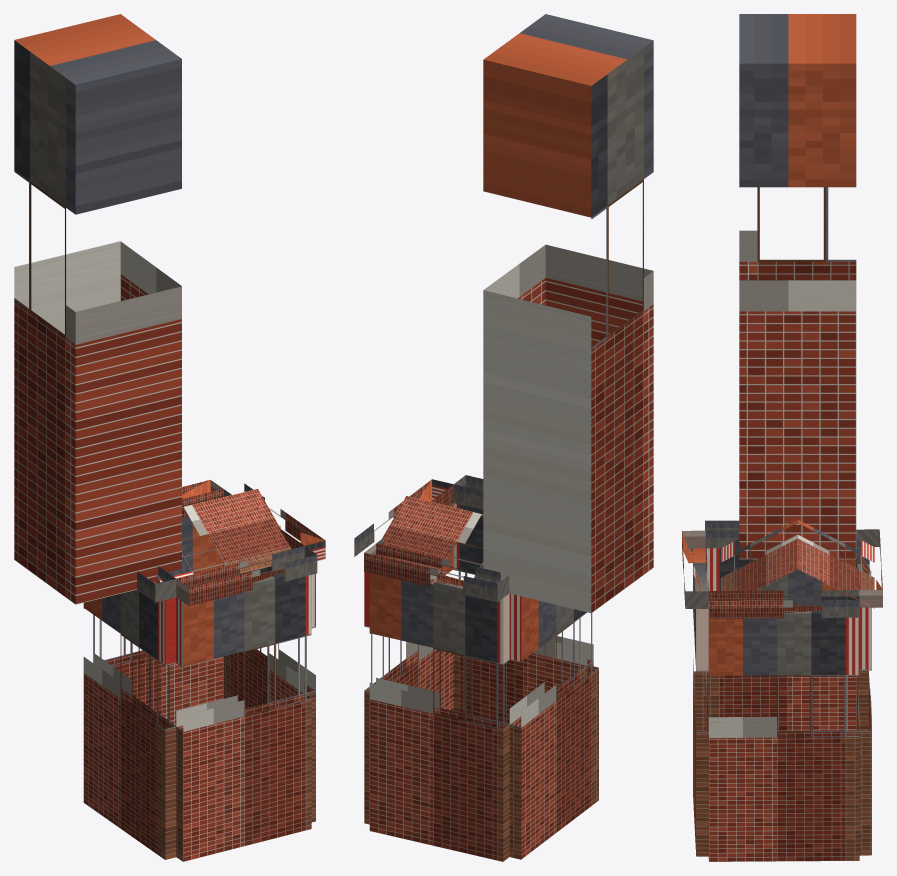
The picture shows the model from 3 angles, left to right: view 1: azimuth 30°, elevation 25°; view 2: azimuth 150°, elevation 25°; view 3: azimuth 270°, elevation 25°; orthographic projection. The views are drawn at different scales.
Parts seen in each view (by area): view 1: 1106965491__chimney_0_xb, 1106965491__wall_1_xb, 1106965491__wall_2_xb, 1106965491__wall_3_xb, 1106965491_roof_-1_xb, 1106965491__wall_0_xb, 1106965491__cornice_1, 1106965491__cornice_0, 1106965491__cornice_2, 1106965491__cornice_3; view 2: 1106965491__chimney_0_xb, 1106965491__wall_3_xb, 1106965491__wall_2_xb, 1106965491__wall_1_xb, 1106965491_roof_1_xb, 1106965491__wall_0_xb, 1106965491__cornice_3, 1106965491__cornice_0, 1106965491__cornice_1; view 3: 1106965491__chimney_0_xb, 1106965491__wall_0_xb, 1106965491__wall_2_xb, 1106965491__wall_1_xb, 1106965491__cornice_0, 1106965491__wall_3_xb, 1106965491_roof_1_xb, 1106965491_roof_-1_xb, 1106965491__cornice_1, 1106965491__cornice_3, 1106965491__cornice_2.
Part boxes in pixels (bbox=[...]): 1106965491__chimney_0_xb: bbox=[14, 14, 181, 604]; 1106965491__wall_1_xb: bbox=[176, 572, 311, 861]; 1106965491__wall_2_xb: bbox=[83, 590, 176, 859]; 1106965491__wall_3_xb: bbox=[93, 516, 223, 725]; 1106965491_roof_-1_xb: bbox=[156, 488, 291, 582]; 1106965491__wall_0_xb: bbox=[223, 562, 315, 822]; 1106965491__cornice_1: bbox=[176, 546, 317, 606]; 1106965491__cornice_0: bbox=[223, 483, 325, 560]; 1106965491__cornice_2: bbox=[137, 566, 176, 602]; 1106965491__cornice_3: bbox=[182, 480, 223, 517]; 1106965491__chimney_0_xb: bbox=[483, 14, 653, 613]; 1106965491__wall_3_xb: bbox=[369, 573, 509, 861]; 1106965491__wall_2_xb: bbox=[509, 593, 598, 859]; 1106965491__wall_1_xb: bbox=[453, 503, 593, 723]; 1106965491_roof_1_xb: bbox=[375, 495, 500, 584]; 1106965491__wall_0_xb: bbox=[364, 503, 453, 824]; 1106965491__cornice_3: bbox=[364, 543, 509, 602]; 1106965491__cornice_0: bbox=[354, 479, 453, 556]; 1106965491__cornice_1: bbox=[453, 475, 483, 509]; 1106965491__chimney_0_xb: bbox=[739, 14, 856, 559]; 1106965491__wall_0_xb: bbox=[708, 610, 859, 861]; 1106965491__wall_2_xb: bbox=[706, 548, 856, 731]; 1106965491__wall_1_xb: bbox=[693, 548, 708, 856]; 1106965491__cornice_0: bbox=[708, 590, 859, 618]; 1106965491__wall_3_xb: bbox=[856, 553, 871, 855]; 1106965491_roof_1_xb: bbox=[798, 520, 874, 608]; 1106965491_roof_-1_xb: bbox=[721, 519, 797, 600]; 1106965491__cornice_1: bbox=[682, 530, 708, 608]; 1106965491__cornice_3: bbox=[856, 529, 882, 607]; 1106965491__cornice_2: bbox=[705, 520, 739, 548].
Size of the model in its own units: 0.3303 by 1.05 by 0.2569.
Materials: 1 (1 with a texture image).
